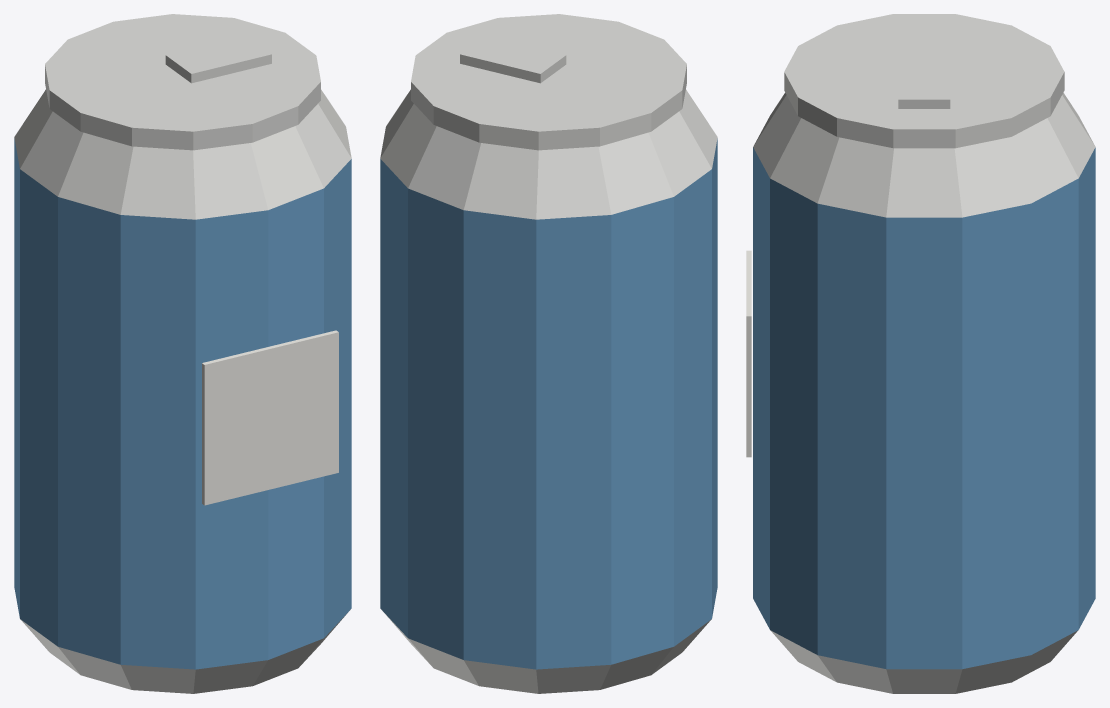
The model's file is food_soda.glb.
The picture shows the model from 3 angles, left to right: view 1: azimuth 30°, elevation 25°; view 2: azimuth 150°, elevation 25°; view 3: azimuth 270°, elevation 25°; orthographic projection.
Parts seen in each view (by area): view 1: Soda; view 2: Soda; view 3: Soda.
Boxes of the visible parts, bbox=[...] form: Soda: bbox=[14, 14, 351, 693]; Soda: bbox=[380, 14, 717, 693]; Soda: bbox=[746, 14, 1095, 693].
Size of the model in its own units: 0.0643 by 0.122 by 0.0673.
